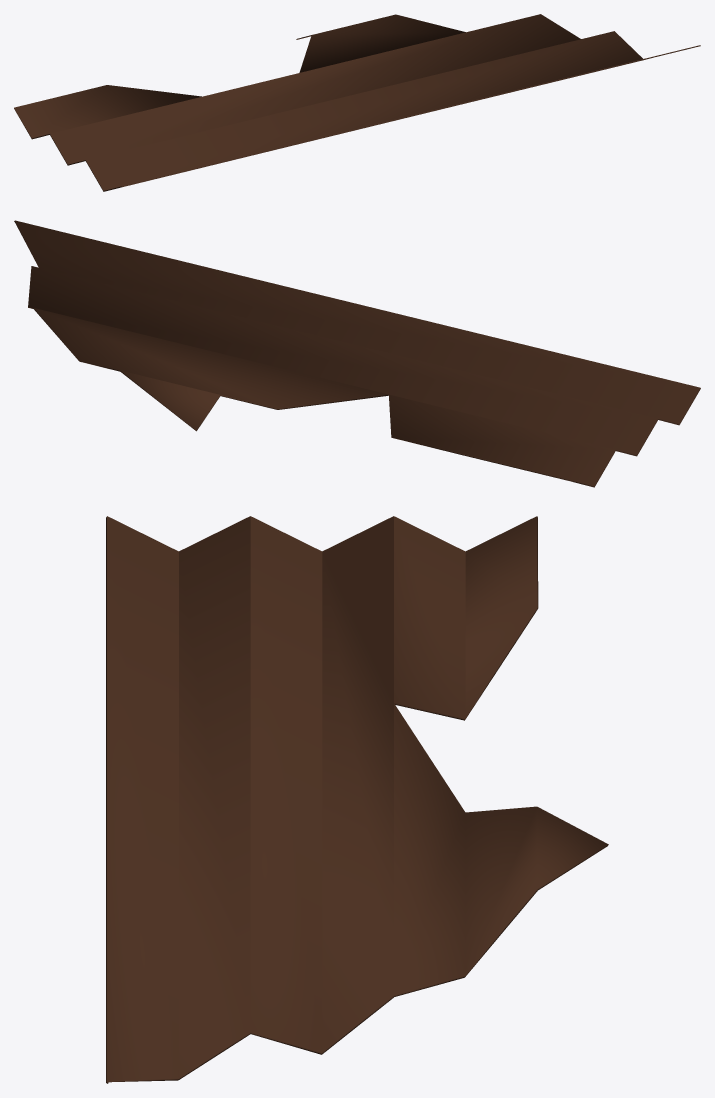
The model's file is scrap3.fbx.
3 views of the same model, one above another, from view 1: azimuth 30°, elevation 25°; view 2: azimuth 150°, elevation 25°; view 3: azimuth 270°, elevation 25° (orthographic). The views are drawn at different scales.
Parts seen in each view (by area): view 1: part3; view 2: part3; view 3: part3.
Boxes of the visible parts, x1,y1,x2,y2 form: part3: (14,14,700,191); part3: (14,220,700,487); part3: (106,516,608,1083).
Bounding box in the file's own units: 62.35 × 1.92 × 23.43.
